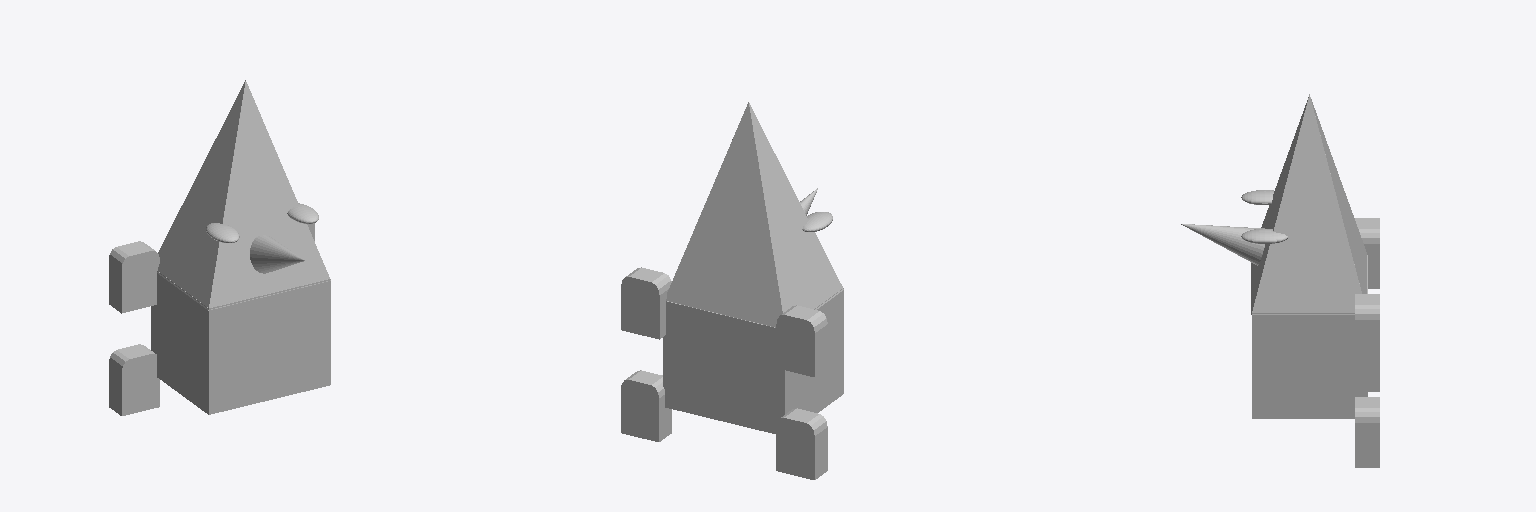
File: enemy.obj
The picture shows the model from 3 angles: view 1: azimuth 30°, elevation 25°; view 2: azimuth 150°, elevation 25°; view 3: azimuth 270°, elevation 25°; orthographic projection.
Visible parts, largest first — view 1: 球; view 2: 球; view 3: 球.
Boxes of the visible parts, box(x1,y1,x2,y2) form: 球: box(109, 80, 330, 415); 球: box(621, 102, 843, 479); 球: box(1181, 94, 1379, 467).
Size of the model in its own units: 1.92 by 3.1 by 1.72.